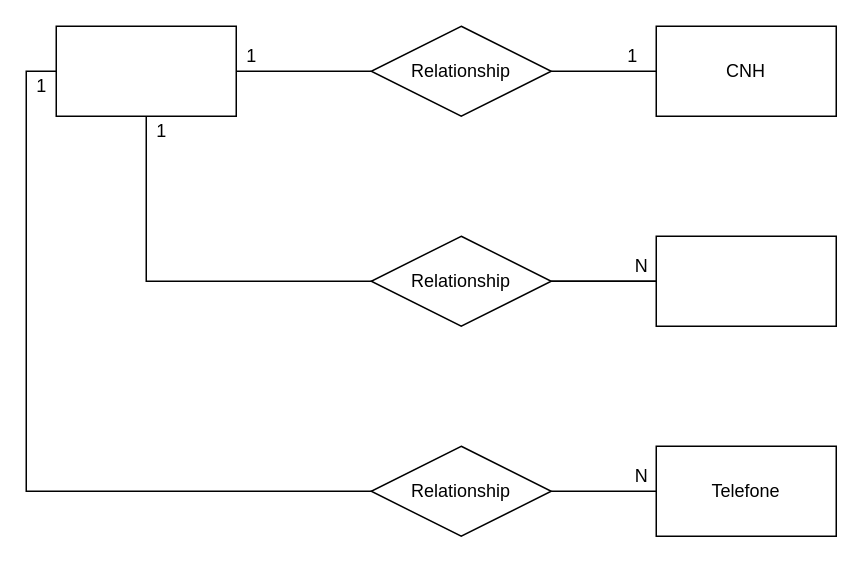
Some shapes in this 863 by 563 pixel diagram are drawn without their labels. The shapes that lost their labels are listed below. From the top down, each one's centre as x and y in pixels, then its label:
At (x=145, y=70): "Pessoa".
At (x=745, y=280): "Email".
